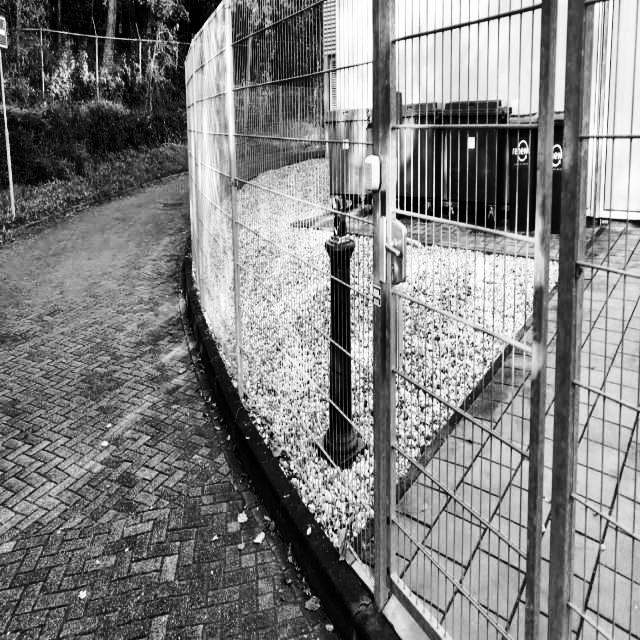fences: (315, 4, 640, 640), (165, 3, 293, 442)
